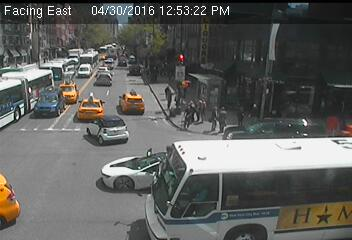neg: (182, 146, 217, 192), (291, 53, 323, 96), (47, 100, 77, 139), (60, 171, 87, 207), (257, 43, 283, 78), (188, 22, 213, 56), (237, 166, 262, 199), (115, 133, 139, 166), (81, 94, 103, 124), (130, 84, 150, 112), (94, 47, 114, 73), (304, 166, 324, 192), (29, 39, 47, 64), (154, 157, 171, 180)
pos: (154, 81, 176, 111), (195, 95, 213, 120), (180, 100, 198, 124), (216, 105, 233, 129), (234, 102, 251, 125)
